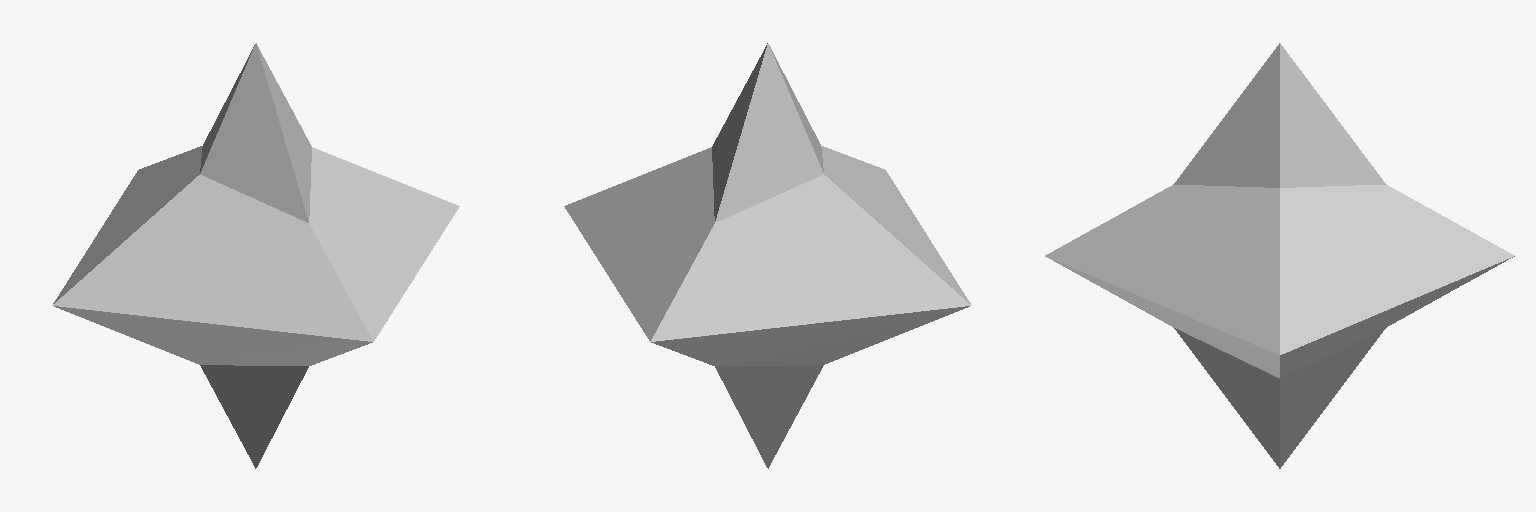
The model's file is Shot.obj.
3 renders of one model, left to right at view 1: azimuth 30°, elevation 25°; view 2: azimuth 150°, elevation 25°; view 3: azimuth 270°, elevation 25°, orthographic.
Parts seen in each view (by area): view 1: pSphere10; view 2: pSphere10; view 3: pSphere10.
Boxes of the visible parts, x1,y1,x2,y2 form: pSphere10: [52, 43, 459, 468]; pSphere10: [564, 43, 971, 468]; pSphere10: [1045, 43, 1514, 468].
Bounding box in the file's own units: 2 × 2 × 2.